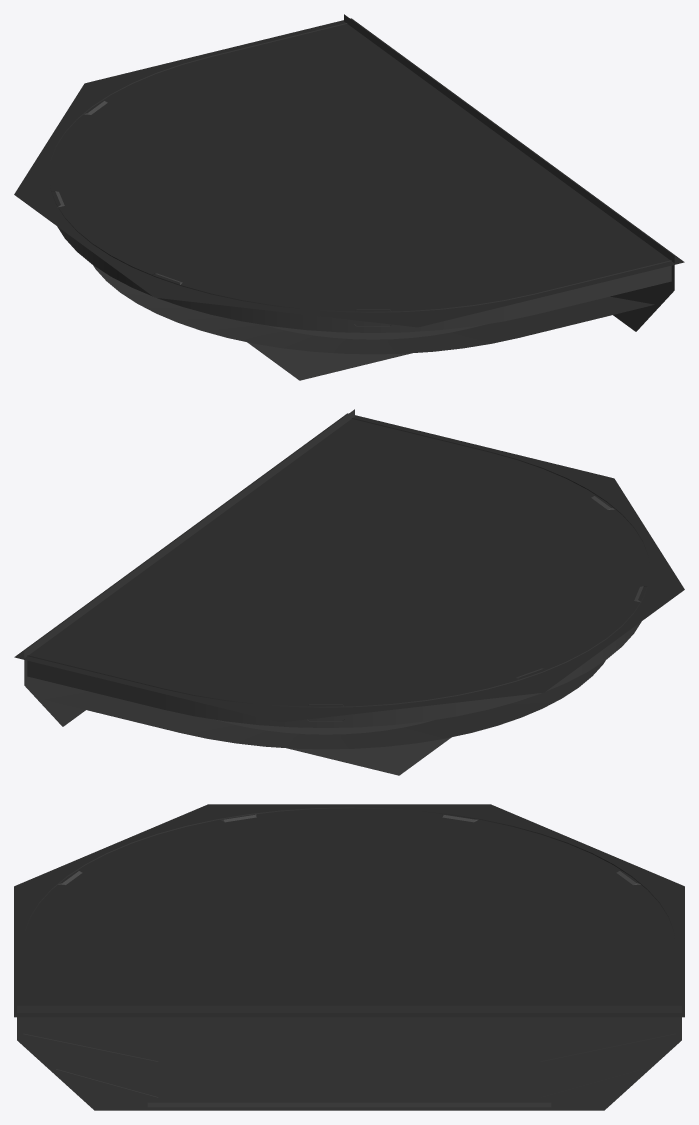
File: SM_Stadium_NoLightBeams.fbx
The picture shows the model from 3 angles, top to bottom: view 1: azimuth 30°, elevation 25°; view 2: azimuth 150°, elevation 25°; view 3: azimuth 270°, elevation 25°; orthographic projection.
Visible parts, largest first — view 1: G_Ceiling, G_StadiumSeating, G_BackWall, G_Floor; view 2: G_Ceiling, G_StadiumSeating, G_BackWall, G_Floor; view 3: G_Ceiling, G_BackWall, G_Floor, G_StadiumSeating.
Boxes of the visible parts, <box> form: G_Ceiling: <box>14,18,684,327</box>; G_StadiumSeating: <box>49,23,671,354</box>; G_BackWall: <box>344,14,674,331</box>; G_Floor: <box>247,324,485,380</box>; G_Ceiling: <box>14,413,684,722</box>; G_StadiumSeating: <box>27,418,649,749</box>; G_BackWall: <box>24,409,354,726</box>; G_Floor: <box>213,719,451,775</box>; G_Ceiling: <box>14,804,684,1017</box>; G_BackWall: <box>17,1005,681,1110</box>; G_Floor: <box>147,1102,551,1107</box>; G_StadiumSeating: <box>23,807,675,1097</box>.
Bounding box in the file's own units: 9840 × 2259 × 13099.
Materials: 5 (4 with a texture image).
